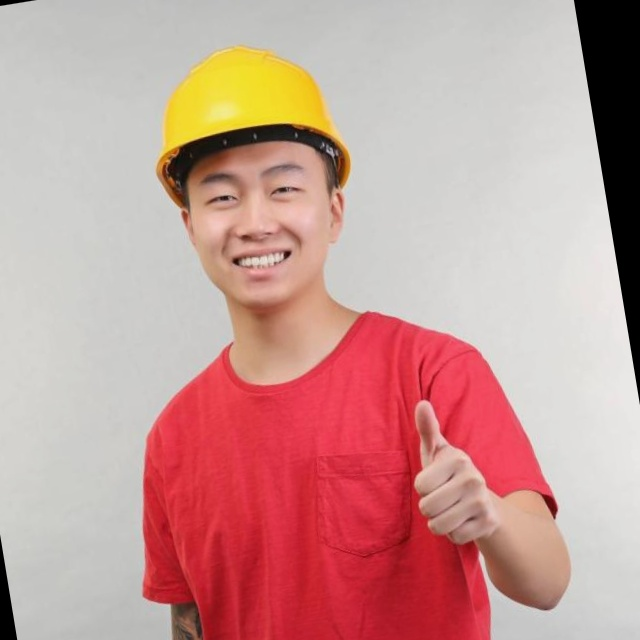Con_Casco: (135, 29, 369, 306)
Sin_Chaleco: (122, 296, 503, 640)
